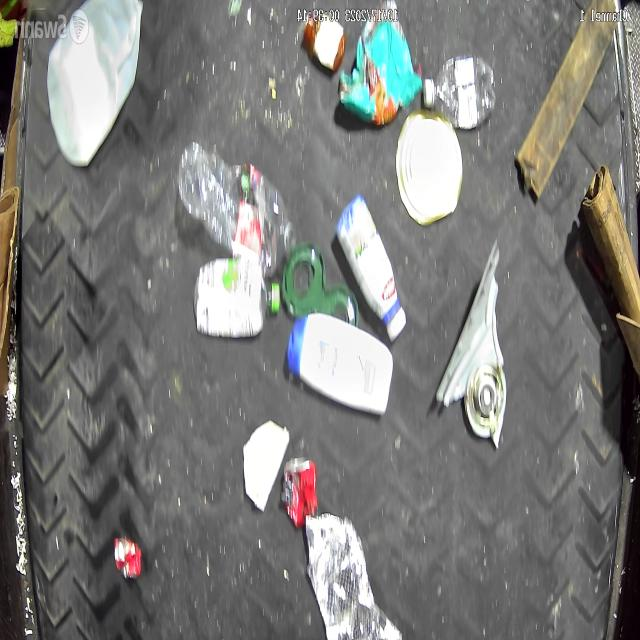milk_jug: (46, 0, 142, 168)
non_white_jug: (284, 314, 394, 419)
plastic_bottle: (178, 142, 294, 275), (424, 56, 496, 132)
